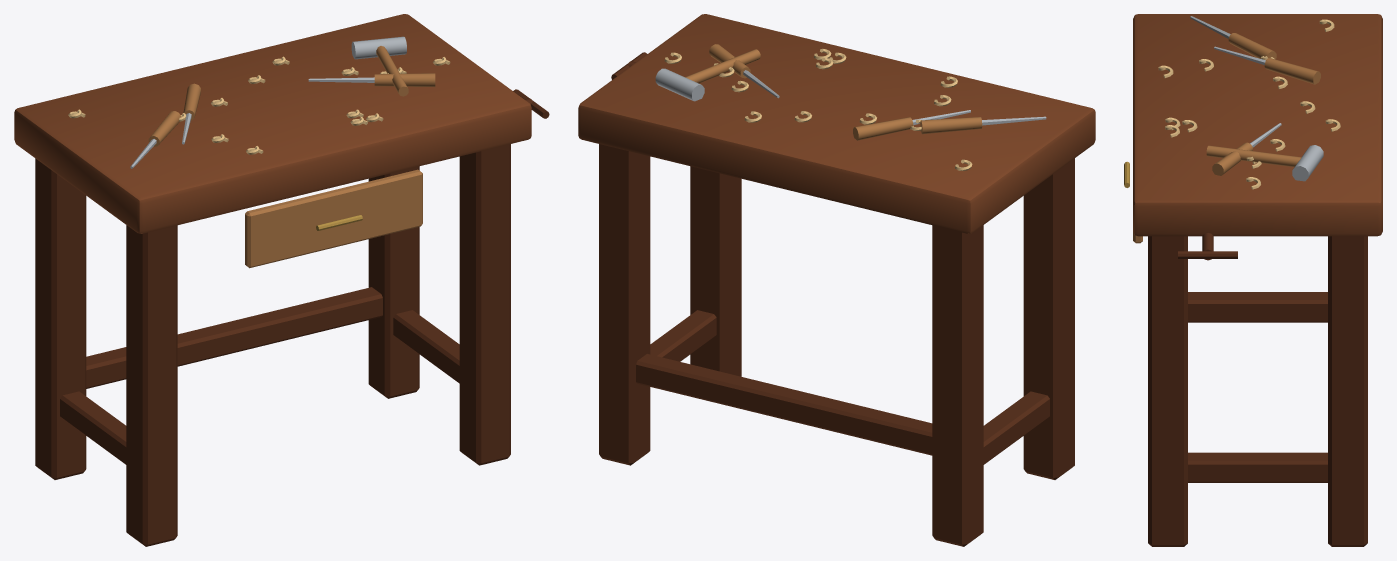
File: PR_Workbench.fbx
3 views of the same model, side by side, from view 1: azimuth 30°, elevation 25°; view 2: azimuth 150°, elevation 25°; view 3: azimuth 270°, elevation 25° (orthographic).
Visible parts, largest first — view 1: PR_Workbench_WoodDark, PR_Workbench_Wood, PR_Workbench_WoodLight, PR_Workbench_Steel, PR_Workbench_Shaving; view 2: PR_Workbench_WoodDark, PR_Workbench_Wood, PR_Workbench_WoodLight, PR_Workbench_Steel, PR_Workbench_Shaving; view 3: PR_Workbench_Wood, PR_Workbench_WoodDark, PR_Workbench_WoodLight, PR_Workbench_Shaving, PR_Workbench_Steel.
Boxes of the visible parts, box(x1,y1,x2,y2) form: PR_Workbench_WoodDark: box(35, 89, 549, 546); PR_Workbench_Wood: box(14, 14, 531, 233); PR_Workbench_WoodLight: box(148, 46, 435, 268); PR_Workbench_Steel: box(130, 36, 406, 168); PR_Workbench_Shaving: box(68, 56, 450, 154); PR_Workbench_WoodDark: box(599, 52, 1074, 546); PR_Workbench_Wood: box(578, 14, 1095, 233); PR_Workbench_WoodLight: box(685, 44, 982, 140); PR_Workbench_Steel: box(655, 68, 1046, 125); PR_Workbench_Shaving: box(664, 48, 972, 170); PR_Workbench_Wood: box(1133, 14, 1382, 236); PR_Workbench_WoodDark: box(1148, 233, 1367, 546); PR_Workbench_WoodLight: box(1133, 33, 1320, 243); PR_Workbench_Shaving: box(1158, 19, 1340, 189); PR_Workbench_Steel: box(1190, 16, 1323, 181).
Bounding box in the file's own units: 0.988 × 0.813 × 0.518.
